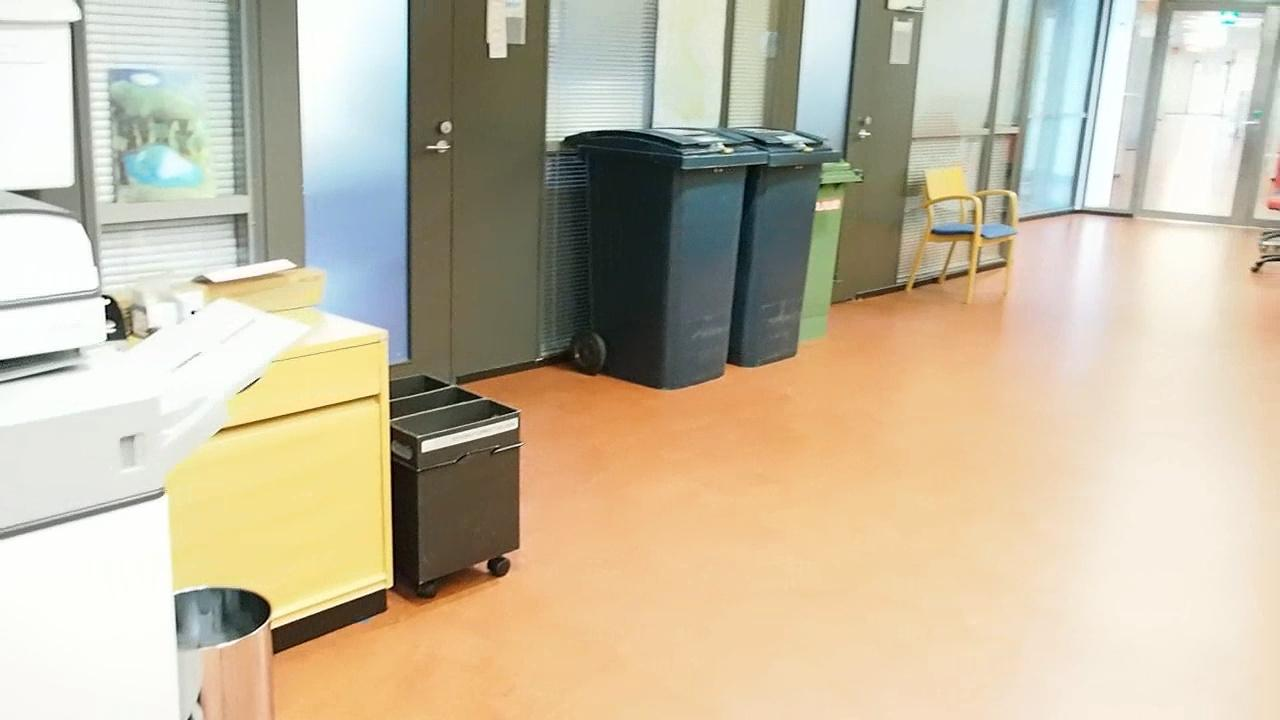chair: (917, 164, 1022, 296)
trashbin: (555, 121, 767, 393), (748, 128, 871, 374)
